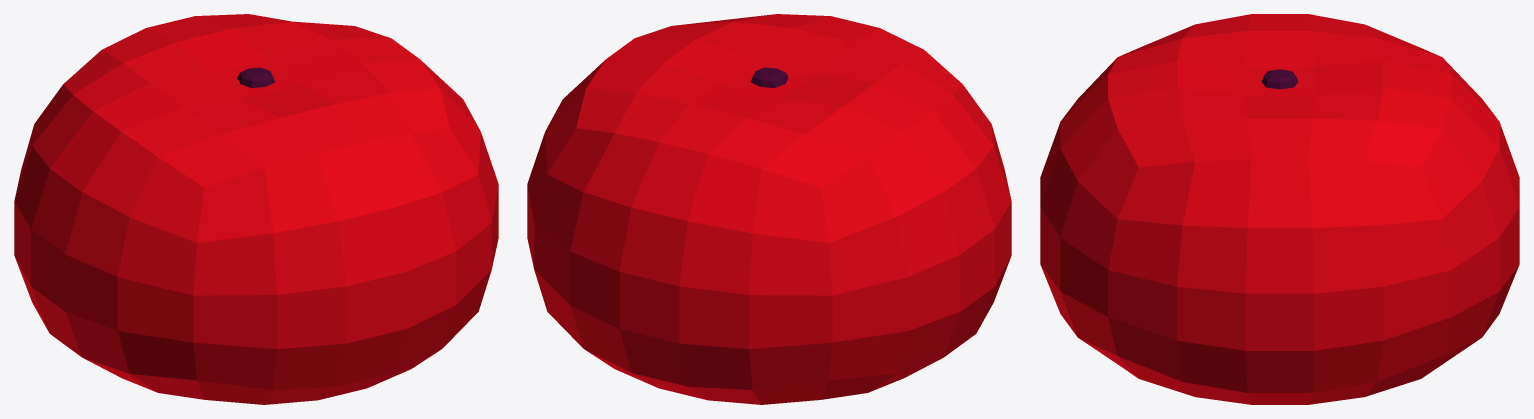
Rendered from Tangerine_01.fbx.
3 renders of one model, left to right at view 1: azimuth 30°, elevation 25°; view 2: azimuth 150°, elevation 25°; view 3: azimuth 270°, elevation 25°, orthographic.
Visible parts, largest first — view 1: Tangerine_01; view 2: Tangerine_01; view 3: Tangerine_01.
Part boxes in pixels (bbox=[...]): Tangerine_01: bbox=[14, 14, 498, 404]; Tangerine_01: bbox=[527, 14, 1011, 404]; Tangerine_01: bbox=[1040, 14, 1519, 404].
Bounding box in the file's own units: 5.13 × 3.11 × 5.13.
